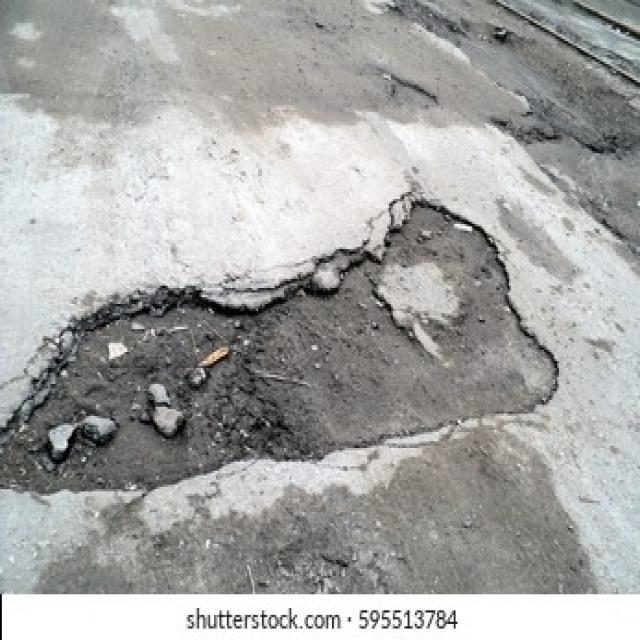Pothole: (0, 194, 561, 496), (367, 66, 439, 112)
